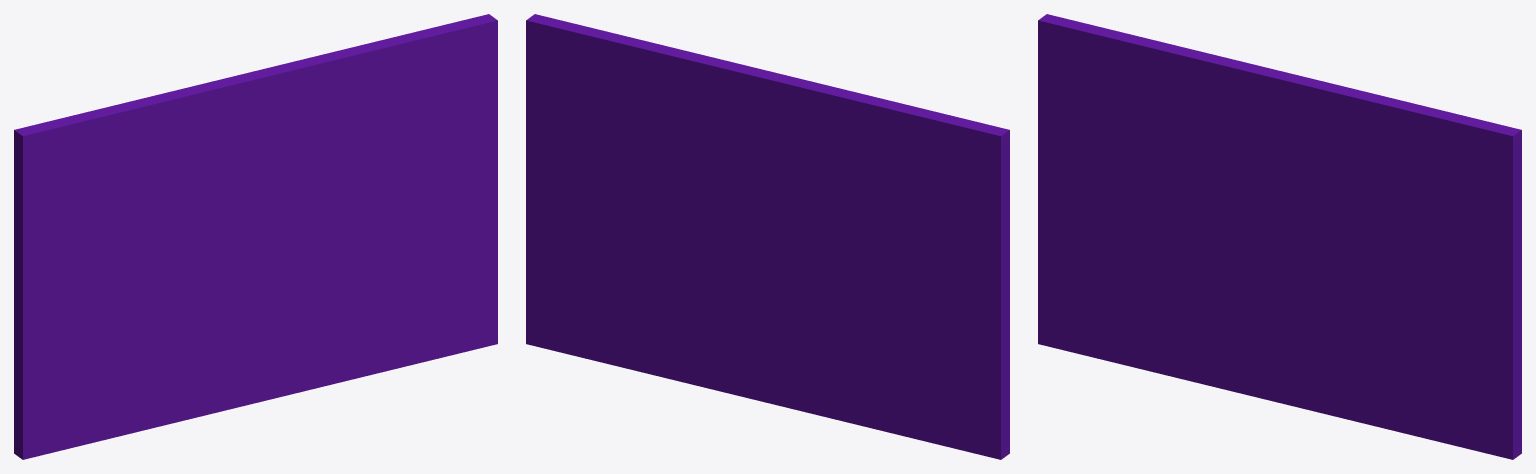
The model's file is ElevatorWall_2_chunks.fbx.
3 views of the same model, side by side, from view 1: azimuth 30°, elevation 25°; view 2: azimuth 150°, elevation 25°; view 3: azimuth 330°, elevation 25° (orthographic).
Parts seen in each view (by area): view 1: ElevatorWall_2_1, ElevatorWall_2_2, ElevatorWall_2_0, ElevatorWall_2_6, ElevatorWall_2_4, ElevatorWall_2_3, ElevatorWall_2_5; view 2: ElevatorWall_2_1, ElevatorWall_2_0, ElevatorWall_2_2, ElevatorWall_2_6, ElevatorWall_2_3, ElevatorWall_2_4, ElevatorWall_2_5; view 3: ElevatorWall_2_1, ElevatorWall_2_2, ElevatorWall_2_0, ElevatorWall_2_6, ElevatorWall_2_4, ElevatorWall_2_3, ElevatorWall_2_5.
Part boxes in pixels (left/top/right/bottom): ElevatorWall_2_1: left=266, top=14, right=497, bottom=346; ElevatorWall_2_2: left=14, top=64, right=305, bottom=253; ElevatorWall_2_0: left=14, top=149, right=235, bottom=459; ElevatorWall_2_6: left=257, top=246, right=484, bottom=381; ElevatorWall_2_4: left=23, top=290, right=259, bottom=459; ElevatorWall_2_3: left=176, top=331, right=344, bottom=422; ElevatorWall_2_5: left=199, top=239, right=281, bottom=310; ElevatorWall_2_1: left=526, top=14, right=764, bottom=349; ElevatorWall_2_0: left=760, top=155, right=1009, bottom=459; ElevatorWall_2_2: left=727, top=61, right=1009, bottom=218; ElevatorWall_2_6: left=550, top=258, right=758, bottom=377; ElevatorWall_2_3: left=665, top=321, right=873, bottom=428; ElevatorWall_2_4: left=787, top=317, right=974, bottom=453; ElevatorWall_2_5: left=735, top=246, right=832, bottom=333; ElevatorWall_2_1: left=1281, top=80, right=1521, bottom=459; ElevatorWall_2_2: left=1038, top=14, right=1320, bottom=242; ElevatorWall_2_0: left=1038, top=81, right=1250, bottom=343; ElevatorWall_2_6: left=1272, top=257, right=1500, bottom=456; ElevatorWall_2_4: left=1039, top=260, right=1275, bottom=381; ElevatorWall_2_3: left=1191, top=330, right=1359, bottom=422; ElevatorWall_2_5: left=1214, top=242, right=1296, bottom=308.
Bounding box in the file's own units: 1790 × 1165 × 57.27.
